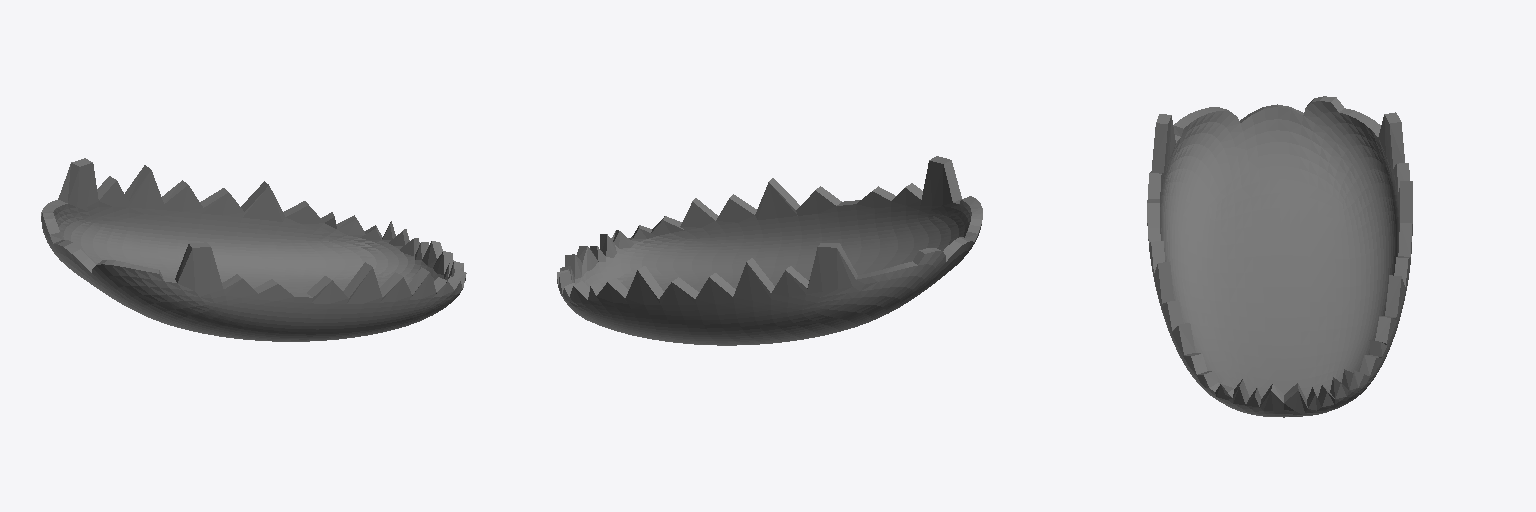
Rendered from mandibula.obj.
3 views of the same model, side by side, from view 1: azimuth 30°, elevation 25°; view 2: azimuth 150°, elevation 25°; view 3: azimuth 270°, elevation 25° (orthographic).
Parts seen in each view (by area): view 1: Object; view 2: Object; view 3: Object.
Part boxes in pixels (bbox=[...]): Object: bbox=[41, 158, 466, 341]; Object: bbox=[557, 156, 982, 345]; Object: bbox=[1147, 96, 1412, 417].
Bounding box in the file's own units: 2.71 × 1.1 × 1.61.